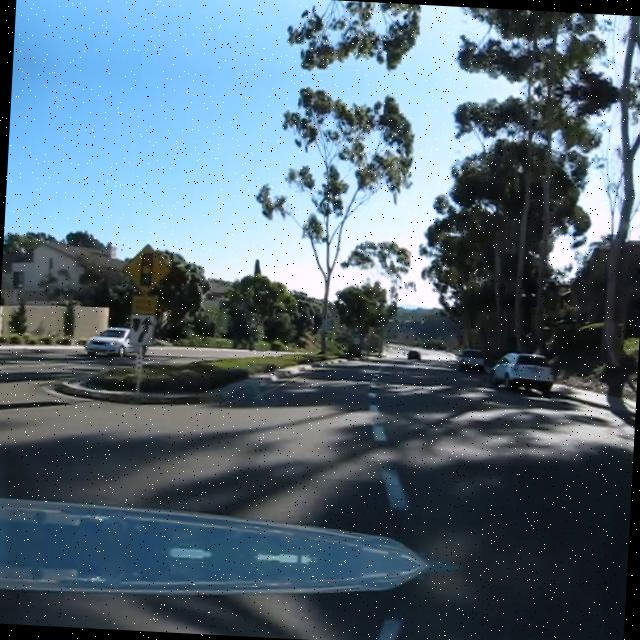signalAhead: (120, 242, 172, 296)
